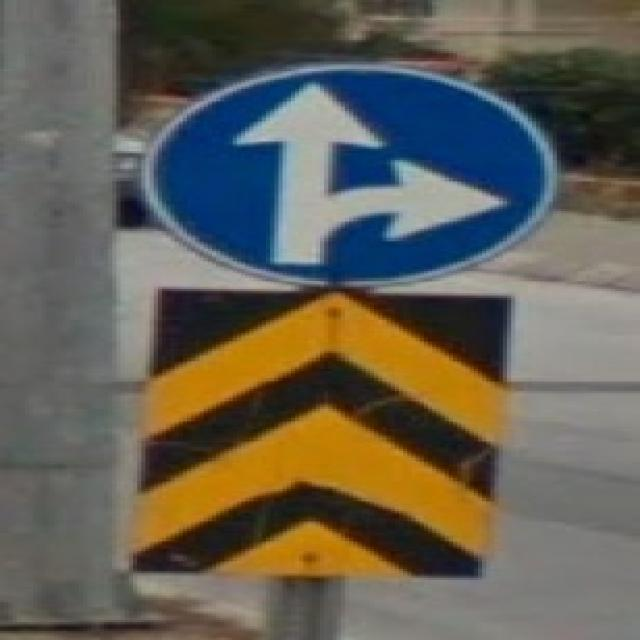Straight or Right: (140, 65, 556, 285)
